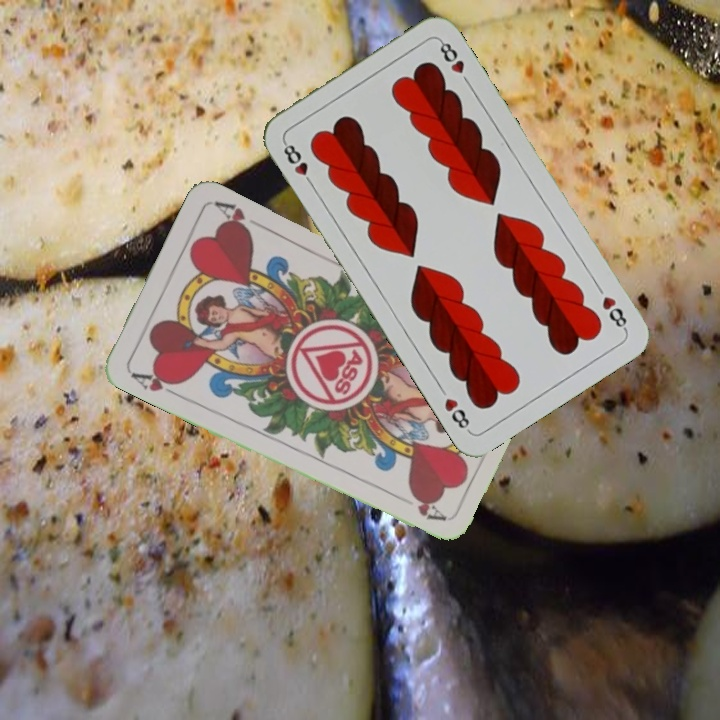H8: (279, 137, 317, 190), (598, 292, 630, 334)
HA: (126, 366, 184, 397)
